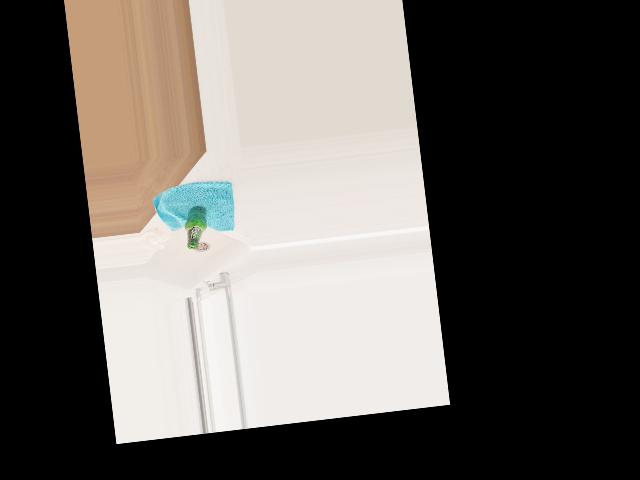beer: (182, 204, 210, 249)
